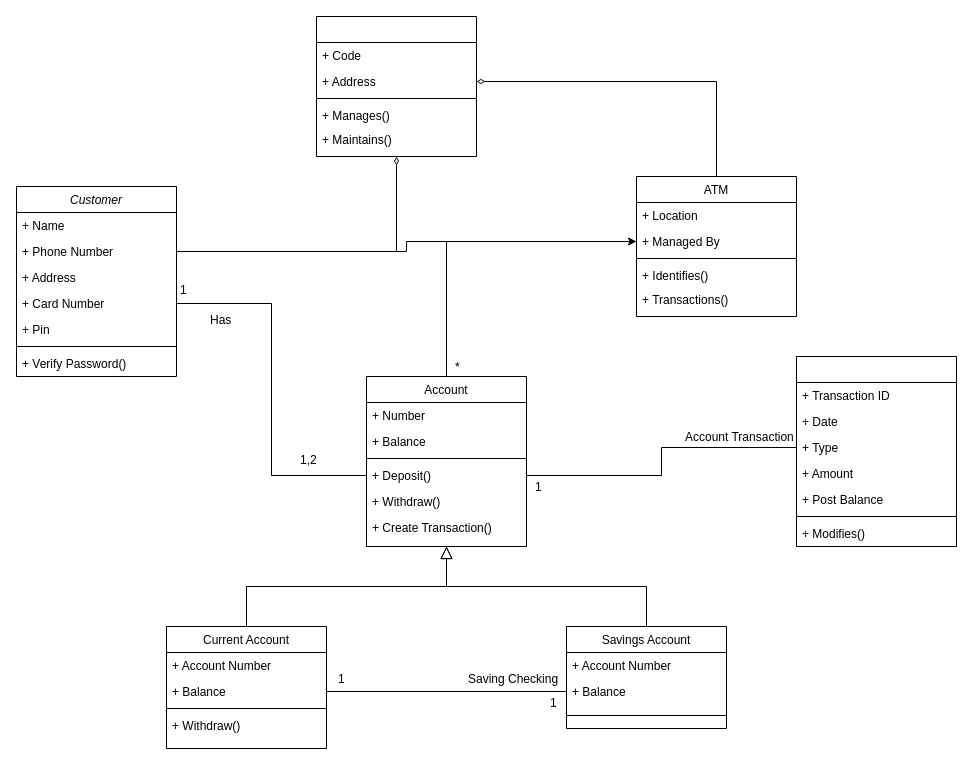
Some shapes in this 973 by 765 pixel diagram are drawn without their labels. The box of each missing label's shape, as (x1, y1, x2, y2) in pixels:
ATM Transaction: (796, 356, 956, 546)
Bank: (316, 16, 476, 156)
